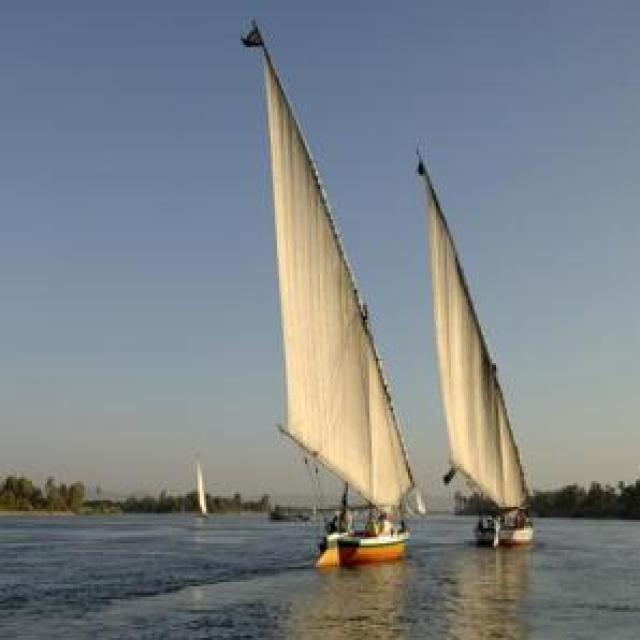sailboat: (238, 15, 415, 568), (397, 141, 543, 552)
